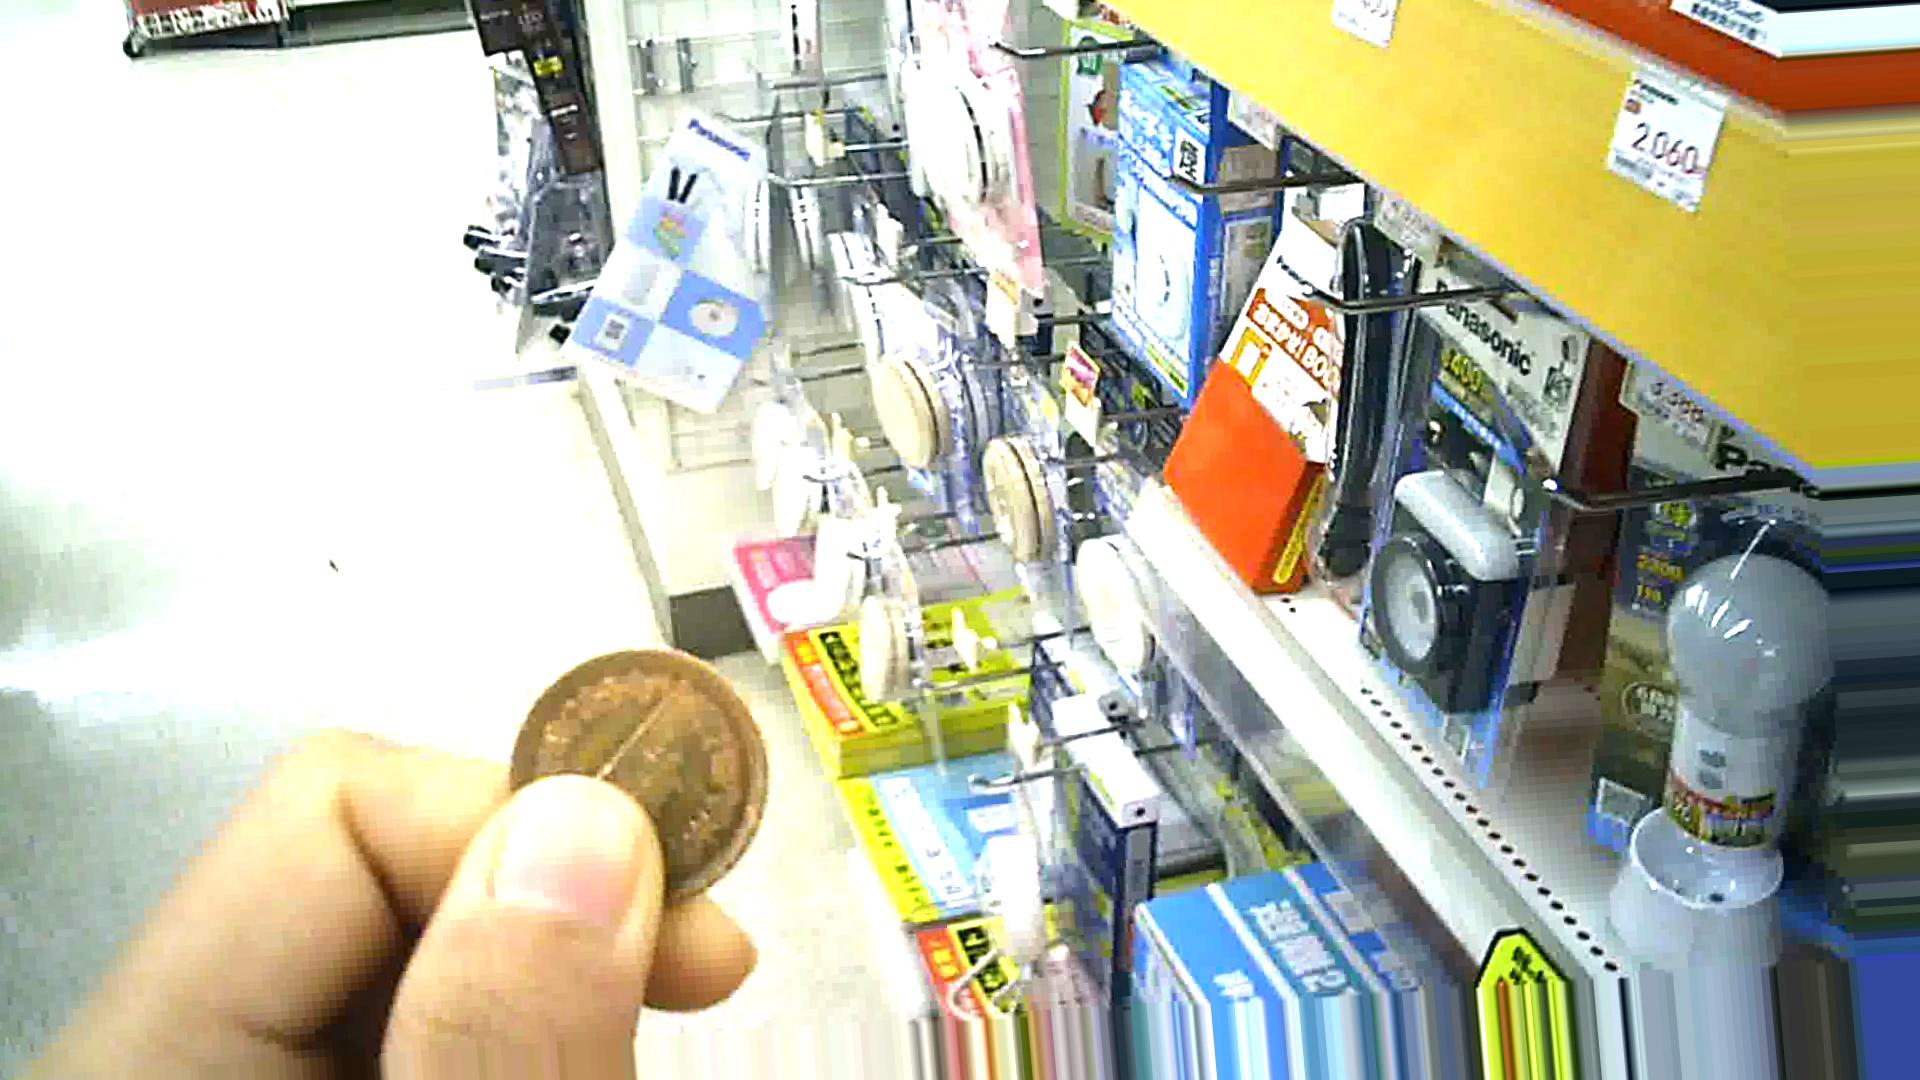10 Yen: (483, 647, 774, 926)
